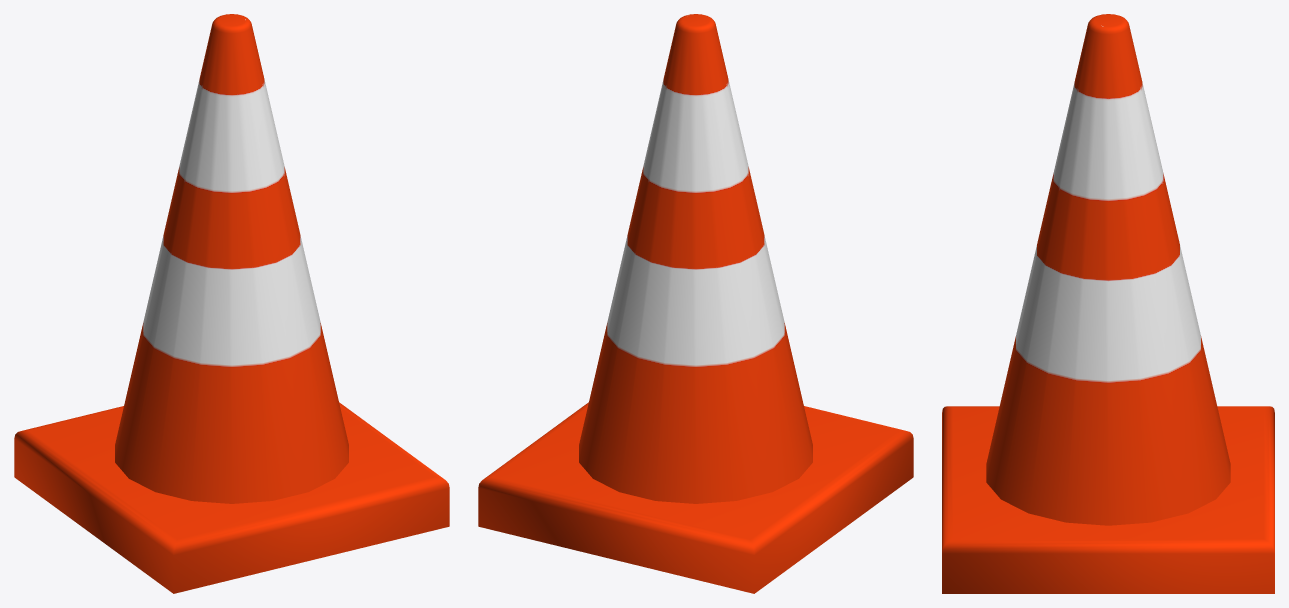
Rendered from trafic_cone.glb.
3 views of the same model, side by side, from view 1: azimuth 30°, elevation 25°; view 2: azimuth 150°, elevation 25°; view 3: azimuth 270°, elevation 25° (orthographic). The views are drawn at different scales.
Visible parts, largest first — view 1: Object001_Material #29_0; view 2: Object001_Material #29_0; view 3: Object001_Material #29_0.
Boxes of the visible parts, left/top/right/bottom form: Object001_Material #29_0: left=14, top=14, right=449, bottom=593; Object001_Material #29_0: left=478, top=14, right=913, bottom=593; Object001_Material #29_0: left=942, top=14, right=1274, bottom=593.
Size of the model in its own units: 1.52 by 2.54 by 1.52.
1 material, 1 textured.
